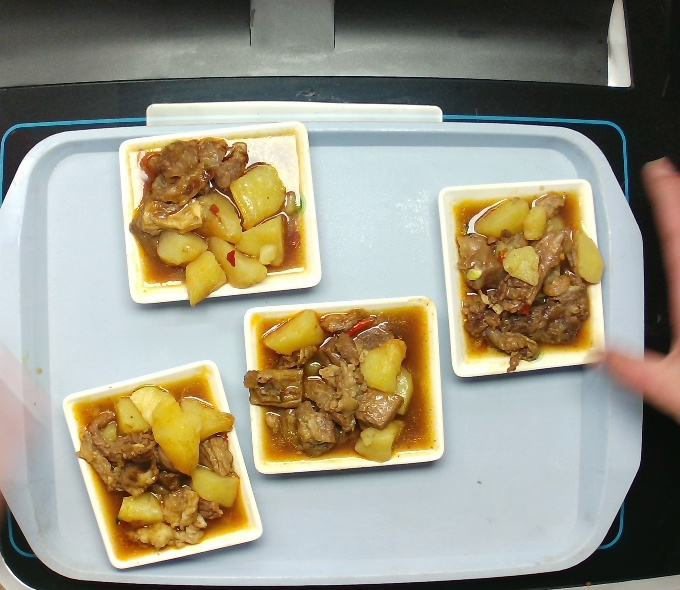wcq-TuDouNiuNan: (72, 369, 248, 564), (118, 132, 316, 302), (241, 302, 439, 472), (445, 186, 604, 373)
